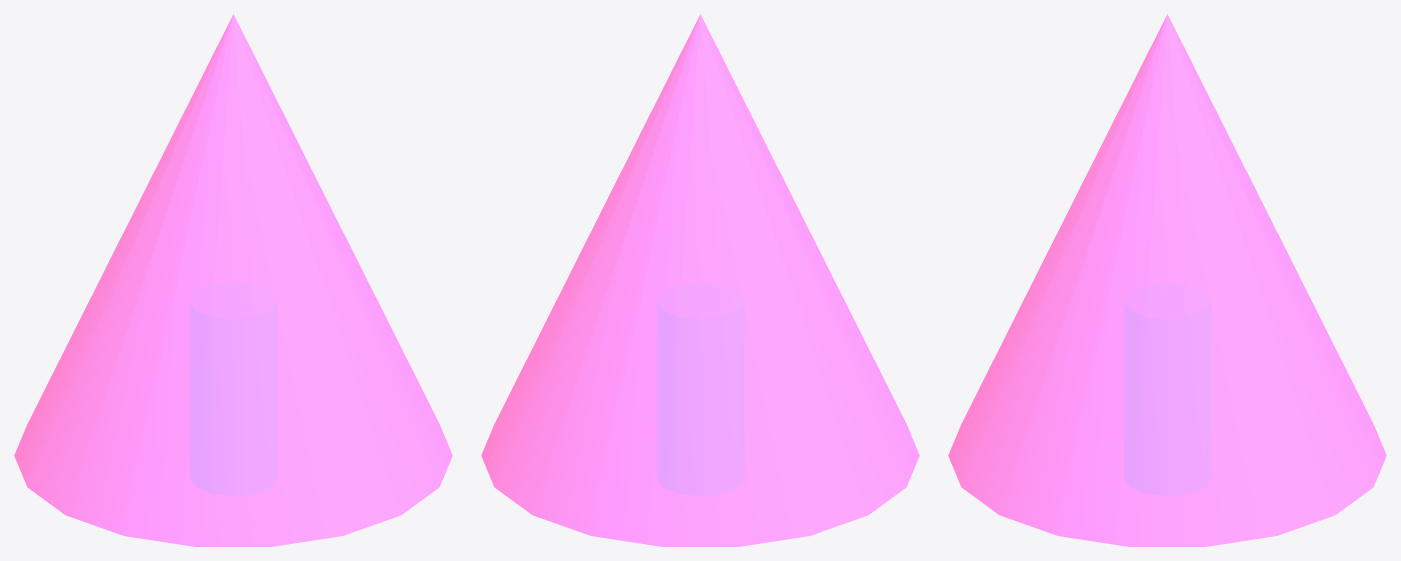
The model's file is blast_cone30.glb.
3 renders of one model, left to right at view 1: azimuth 30°, elevation 25°; view 2: azimuth 150°, elevation 25°; view 3: azimuth 270°, elevation 25°, orthographic.
Size of the model in its own units: 1.77 by 2.1 by 1.8.
